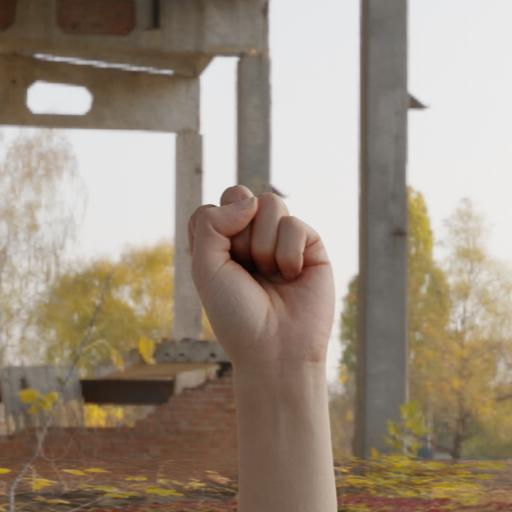S: (176, 164, 356, 384)
